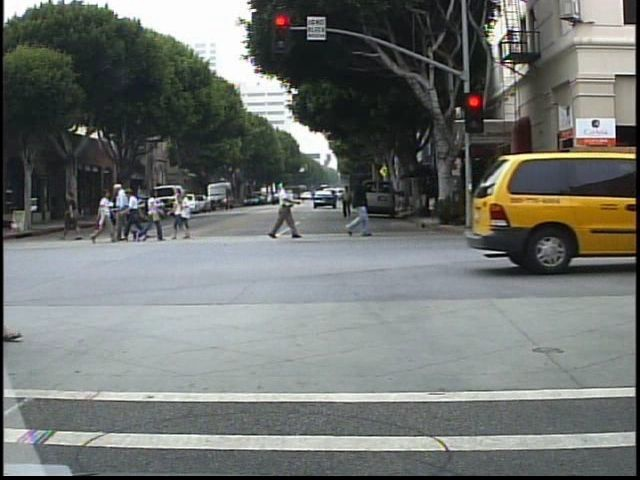person: (340, 167, 380, 241), (270, 179, 299, 240), (91, 187, 114, 249), (143, 187, 166, 245), (61, 186, 83, 242), (126, 185, 146, 245), (113, 180, 130, 245)
